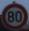Speed Limit -80-: (0, 0, 28, 30)
